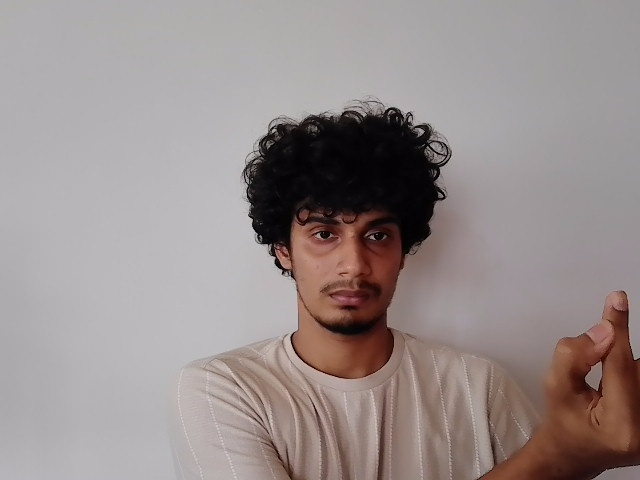just: (539, 289, 640, 464)
